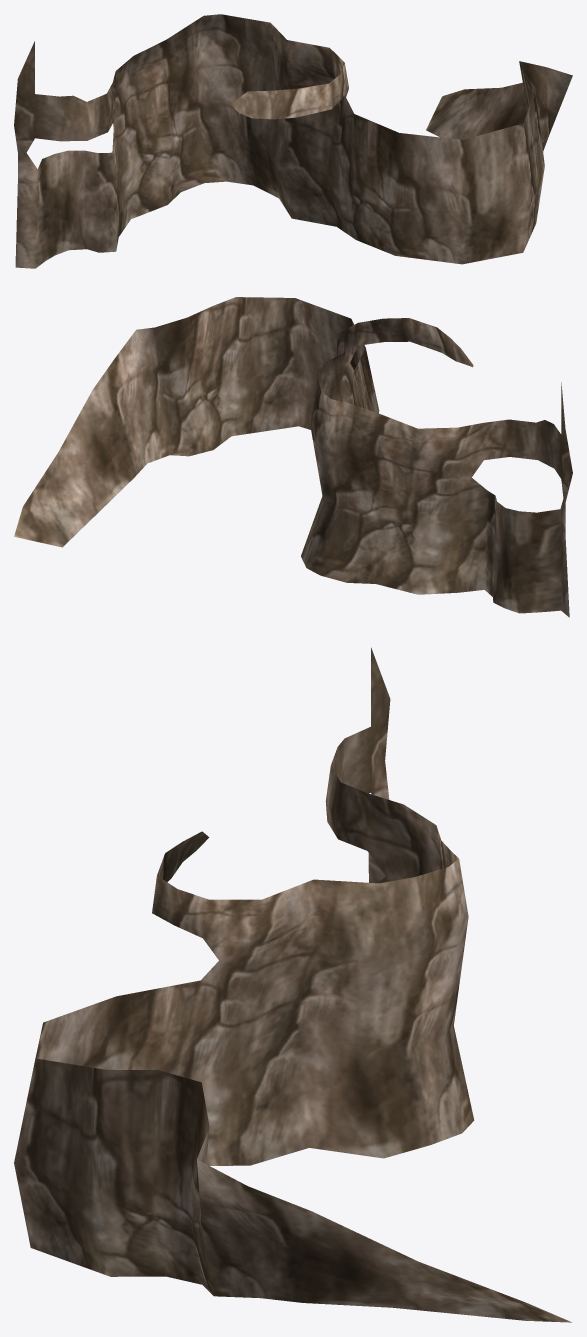
Rendered from EKH_ENTRANCE_PS_EN_ROCK_WALL62624.fbx.
The picture shows the model from 3 angles, top to bottom: view 1: azimuth 30°, elevation 25°; view 2: azimuth 150°, elevation 25°; view 3: azimuth 270°, elevation 25°; orthographic projection. The views are drawn at different scales.
Parts seen in each view (by area): view 1: EKH_ENTRANCE_PS_EN_ROCK_WALL62624; view 2: EKH_ENTRANCE_PS_EN_ROCK_WALL62624; view 3: EKH_ENTRANCE_PS_EN_ROCK_WALL62624.
Boxes of the visible parts, x1=… form: EKH_ENTRANCE_PS_EN_ROCK_WALL62624: x1=14, y1=14, x2=572, y2=268; EKH_ENTRANCE_PS_EN_ROCK_WALL62624: x1=14, y1=297, x2=572, y2=617; EKH_ENTRANCE_PS_EN_ROCK_WALL62624: x1=14, y1=647, x2=572, y2=1322.
Bounding box in the file's own units: 167477 × 75411 × 108497.
Materials: 1 (1 with a texture image).
